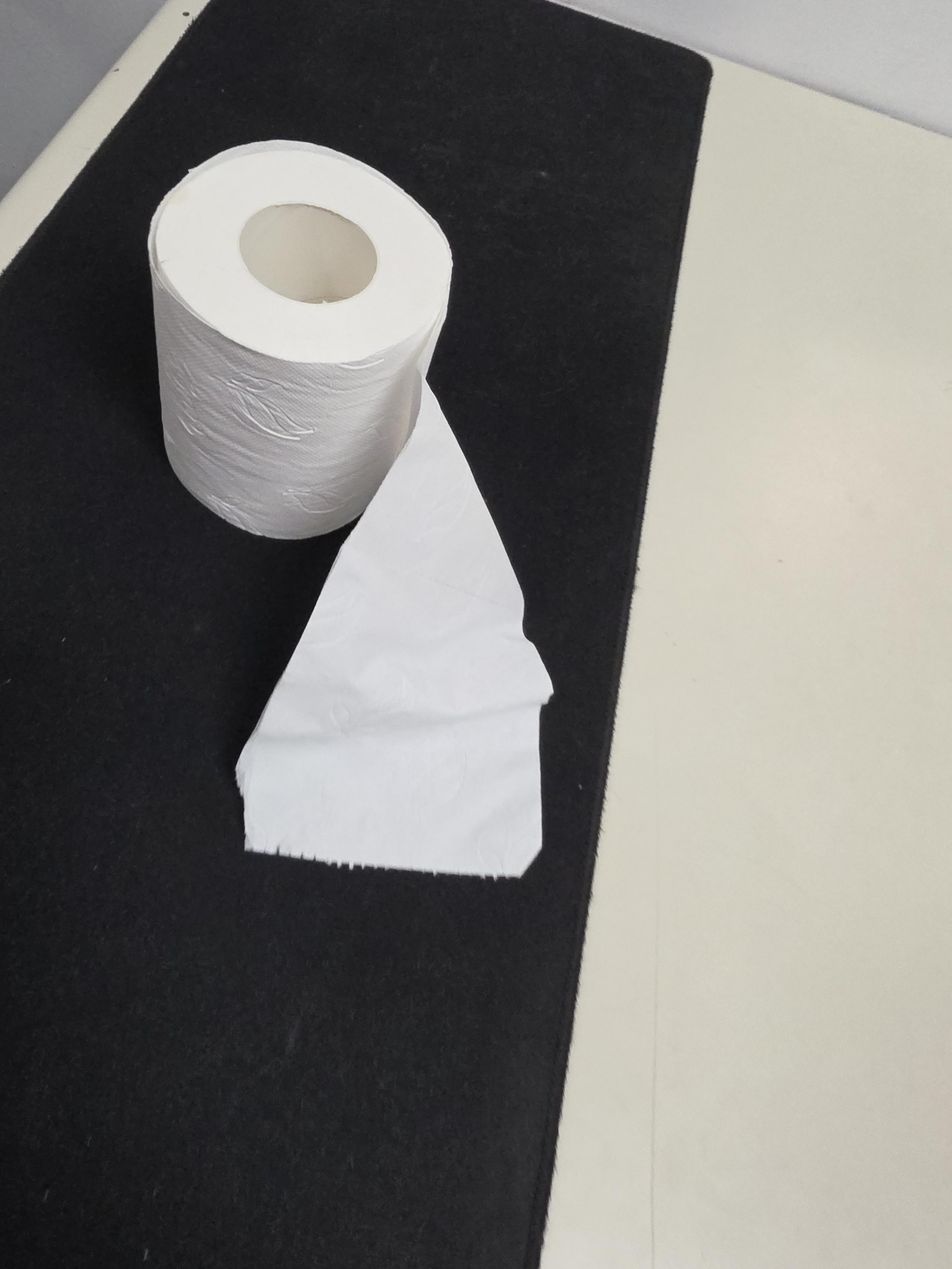tissue: (147, 139, 553, 879)
